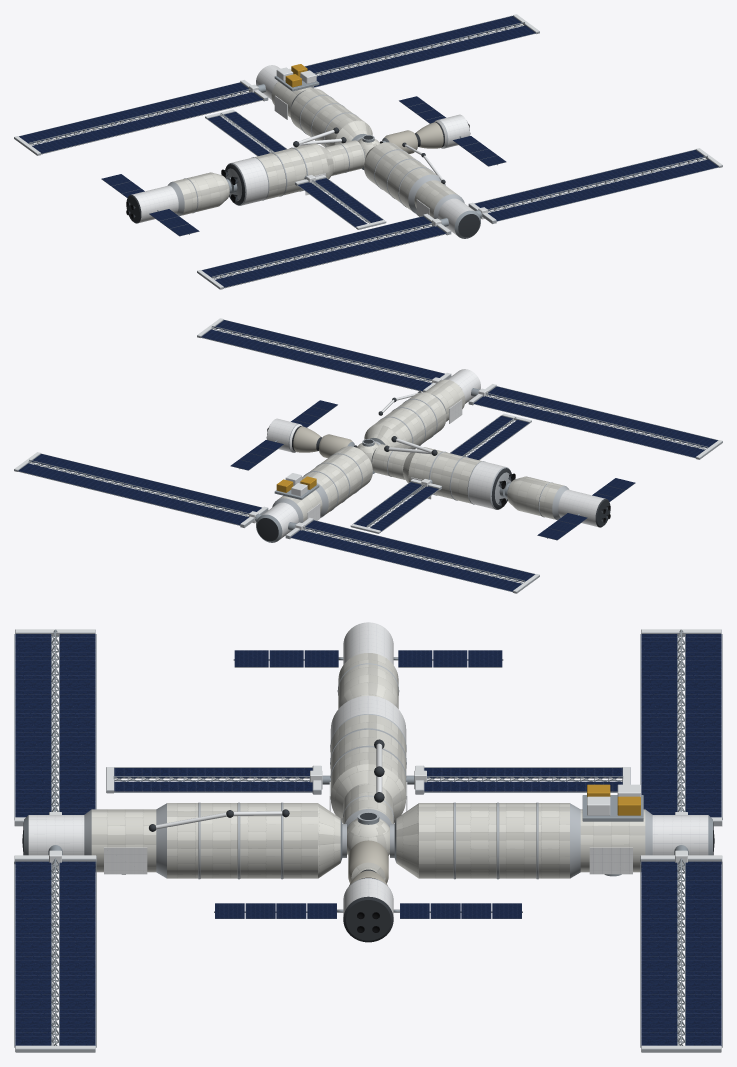
File: css.glb
3 views of the same model, one above another, from view 1: azimuth 30°, elevation 25°; view 2: azimuth 150°, elevation 25°; view 3: azimuth 270°, elevation 25° (orthographic). The views are drawn at different scales.
Parts seen in each view (by area): view 1: css_skin, solar_2, solar_1, css, solar_4, solar_3; view 2: css_skin, solar_1, solar_2, css, solar_3, solar_4; view 3: css_skin, solar_2, solar_1, css, solar_4, solar_3.
Part boxes in pixels (left/top/right/bottom): css_skin: left=101, top=65, right=506, bottom=235; solar_2: left=197, top=148, right=722, bottom=289; solar_1: left=14, top=14, right=539, bottom=155; css: left=101, top=64, right=506, bottom=238; solar_4: left=295, top=175, right=386, bottom=229; solar_3: left=205, top=109, right=286, bottom=156; css_skin: left=230, top=369, right=635, bottom=539; solar_1: left=14, top=452, right=539, bottom=593; solar_2: left=197, top=318, right=722, bottom=459; css: left=230, top=387, right=635, bottom=542; solar_3: left=350, top=479, right=441, bottom=533; solar_4: left=450, top=413, right=531, bottom=460; css_skin: left=28, top=622, right=708, bottom=918; solar_2: left=14, top=629, right=96, bottom=1052; solar_1: left=640, top=629, right=722, bottom=1052; css: left=22, top=657, right=714, bottom=942; solar_4: left=106, top=765, right=330, bottom=794; solar_3: left=406, top=765, right=630, bottom=794.
Size of the model in its own units: 55.25 by 5.19 by 39.42.
14 materials, 4 textured.
